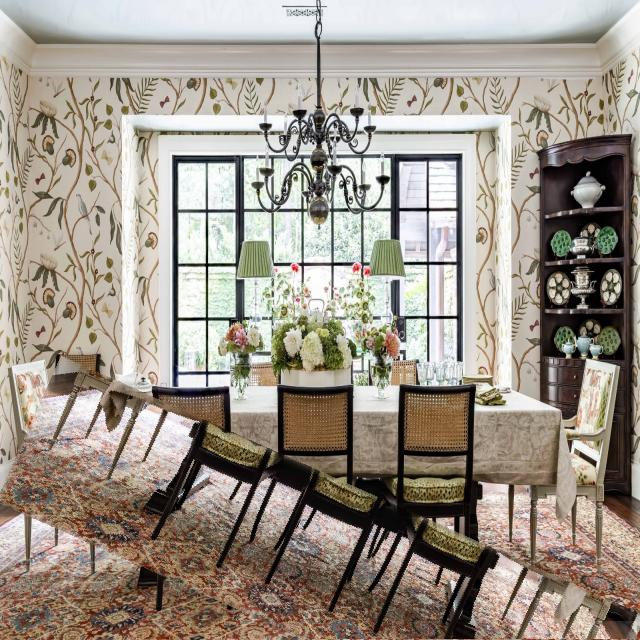floor: (0, 374, 465, 640), (475, 566, 531, 640), (522, 596, 570, 640), (602, 621, 637, 640), (572, 610, 592, 640)
